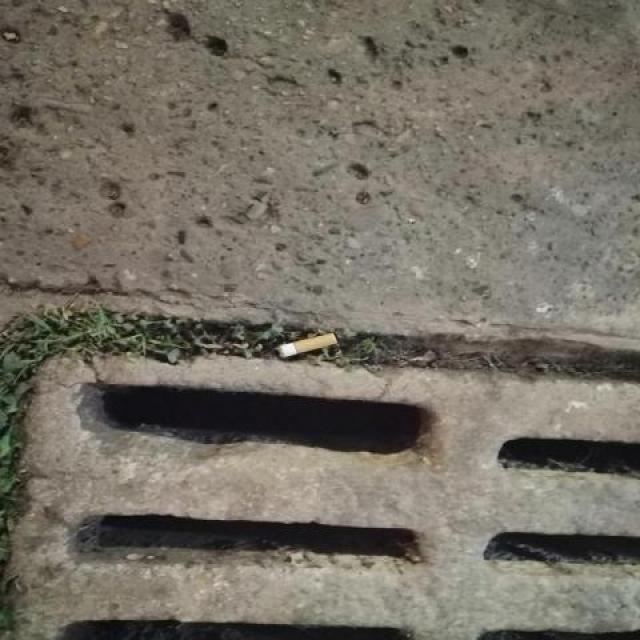non-organic waste: (268, 324, 344, 364)
